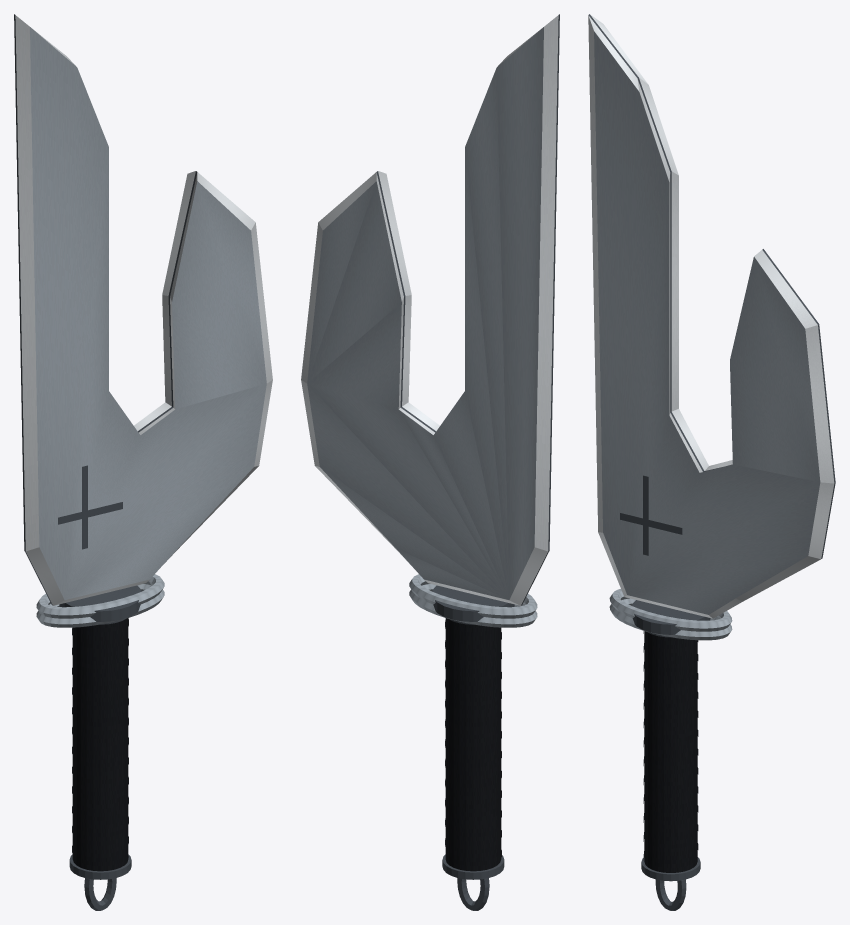
Rendered from inverted_spear_of_heaven.obj.
3 views of the same model, side by side, from view 1: azimuth 30°, elevation 25°; view 2: azimuth 150°, elevation 25°; view 3: azimuth 330°, elevation 25° (orthographic). The views are drawn at different scales.
Size of the model in its own units: 0.4688 by 1.6 by 0.1313.
